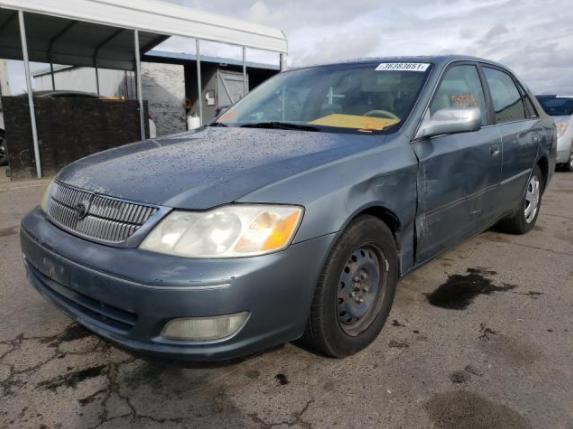Back-door: (479, 61, 539, 222)
Back-wheel: (502, 162, 544, 234)
Back-window: (482, 66, 530, 123), (518, 84, 538, 117)
Fender: (233, 134, 418, 277)
Front-bumper: (19, 203, 341, 361)
Front-door: (412, 59, 503, 265)
Front-wheel: (302, 211, 398, 358)
Front-window: (429, 65, 491, 126)
Grille: (40, 179, 174, 250)
Headlight: (134, 202, 305, 259)
Hood: (54, 125, 399, 210)
Mirror: (410, 104, 482, 142)
Quarter-panel: (535, 116, 557, 191)
Rocker-panel: (398, 205, 519, 281)
Windshield: (210, 61, 434, 135)
